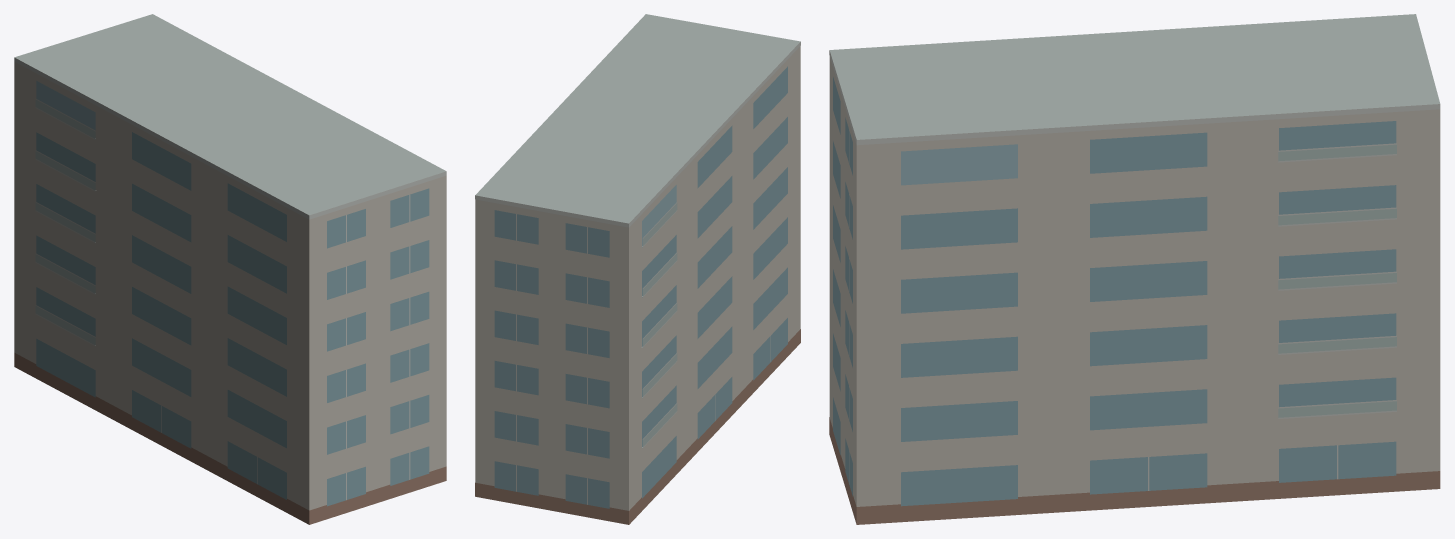
Rendered from survey-upis-32726722.glb.
The picture shows the model from 3 angles, left to right: view 1: azimuth 30°, elevation 25°; view 2: azimuth 150°, elevation 25°; view 3: azimuth 270°, elevation 25°; orthographic projection. The views are drawn at different scales.
Visible parts, largest first — view 1: survey-upis-32726722.tmp; view 2: survey-upis-32726722.tmp; view 3: survey-upis-32726722.tmp.
Boxes of the visible parts, x1,y1,x2,y2 form: survey-upis-32726722.tmp: (14, 14, 446, 524); survey-upis-32726722.tmp: (475, 14, 800, 524); survey-upis-32726722.tmp: (829, 14, 1440, 524).
Bounding box in the file's own units: 12.58 × 17.9 × 25.76.
